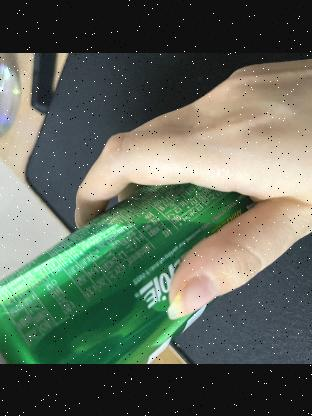Can: (0, 182, 258, 363)
